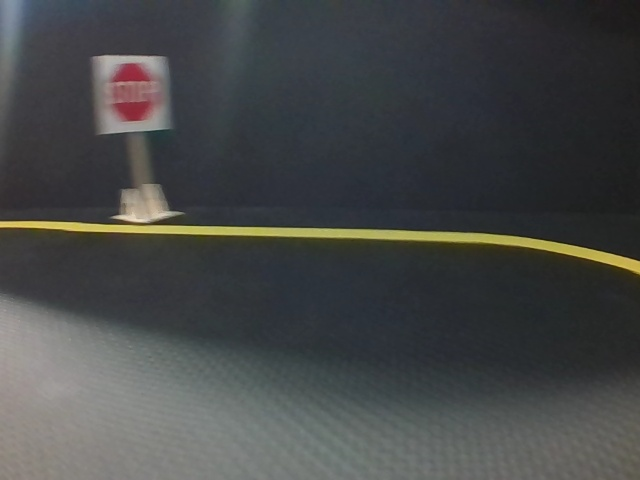stop: (98, 57, 166, 129)
